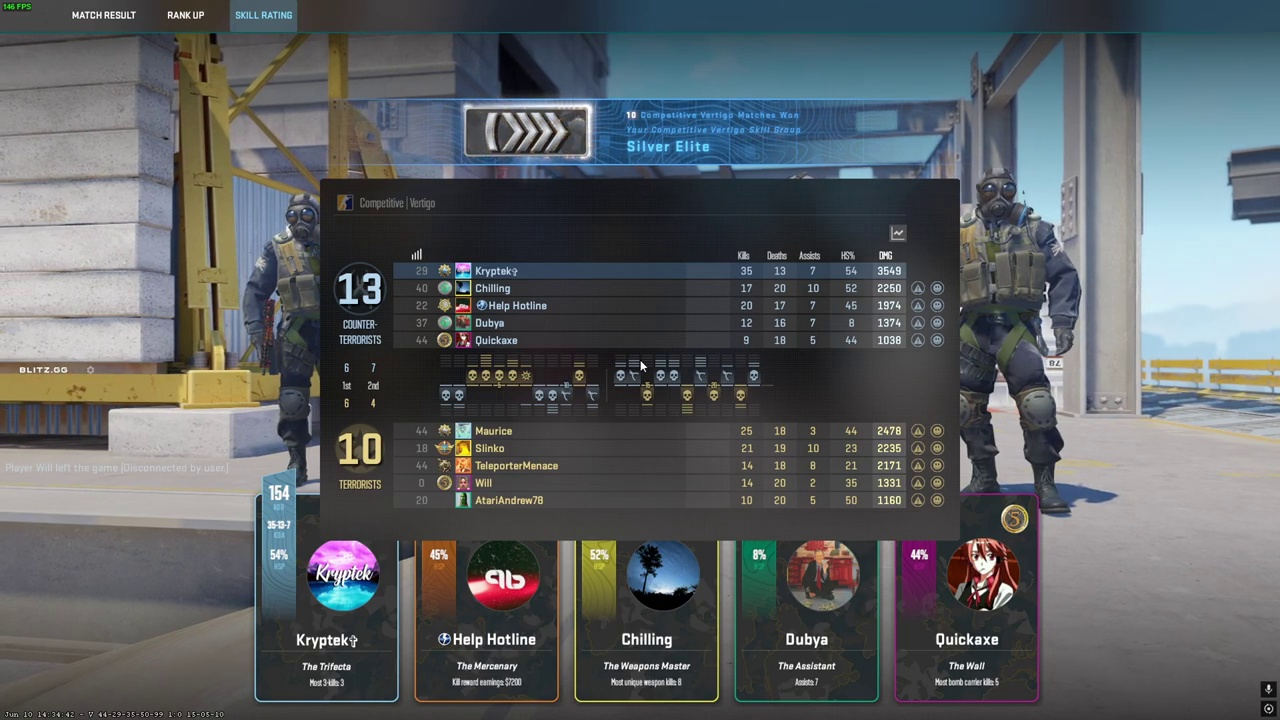CT: (955, 170, 1070, 514), (258, 194, 325, 483)
